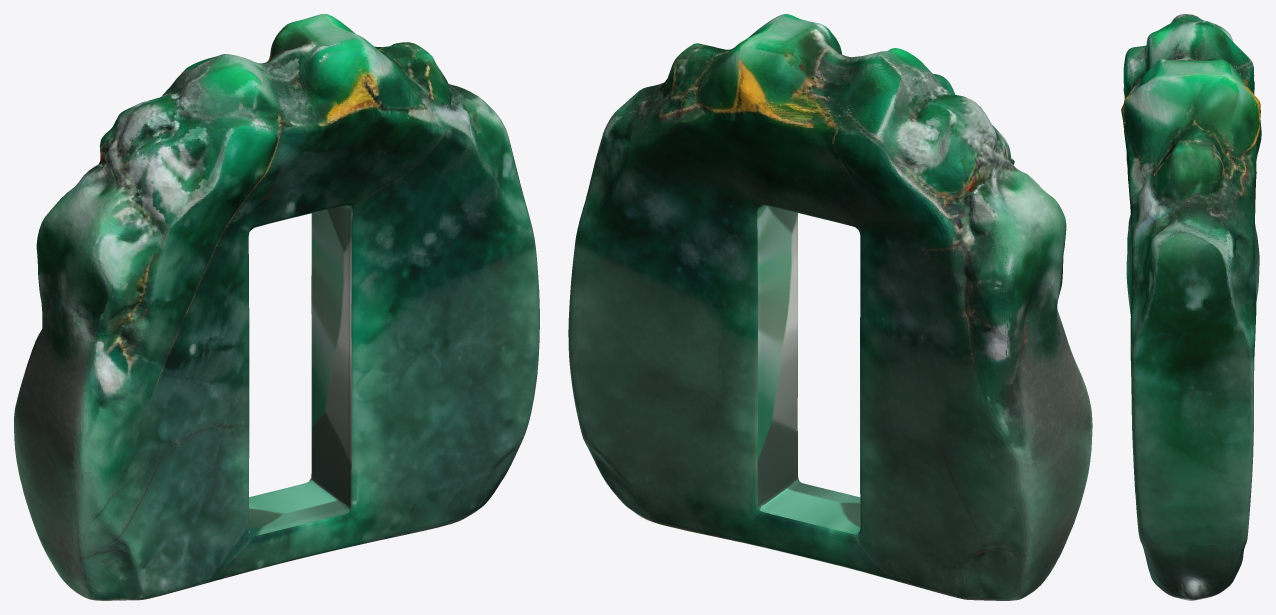
File: mouth_carved_jade_monolith.glb
The picture shows the model from 3 angles, left to right: view 1: azimuth 30°, elevation 25°; view 2: azimuth 150°, elevation 25°; view 3: azimuth 270°, elevation 25°; orthographic projection. The views are drawn at different scales.
Parts seen in each view (by area): view 1: temp_mesh.ply; view 2: temp_mesh.ply; view 3: temp_mesh.ply.
Boxes of the visible parts, <box> form: temp_mesh.ply: <box>14,14,539,600</box>; temp_mesh.ply: <box>568,14,1092,600</box>; temp_mesh.ply: <box>1121,14,1261,600</box>.
Bounding box in the file's own units: 1.9 × 1.94 × 0.5289.
Materials: 1 (1 with a texture image).
